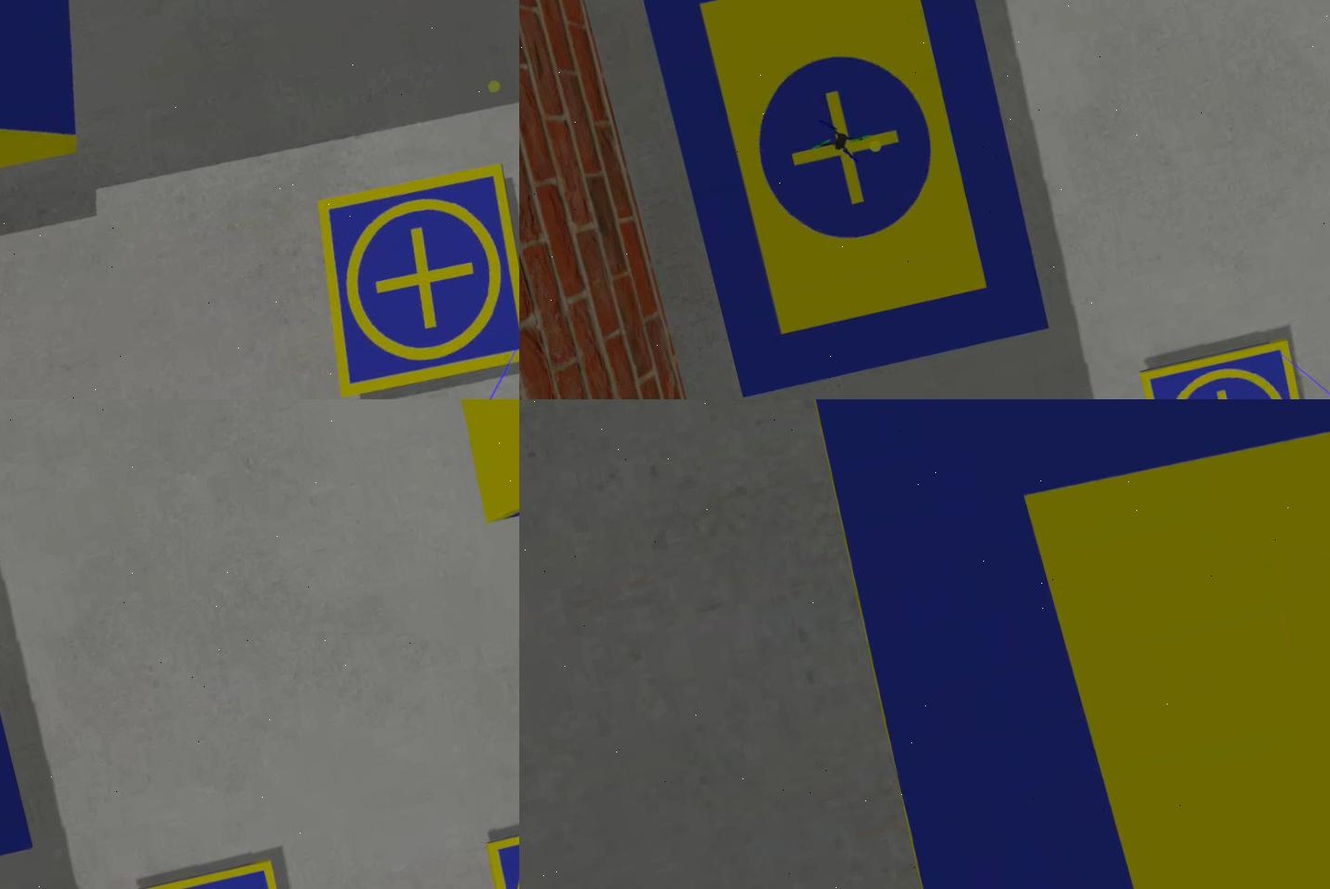large_base: (791, 400, 1328, 889), (634, 1, 1059, 400)
small_base: (293, 157, 517, 400), (1134, 336, 1323, 400)
